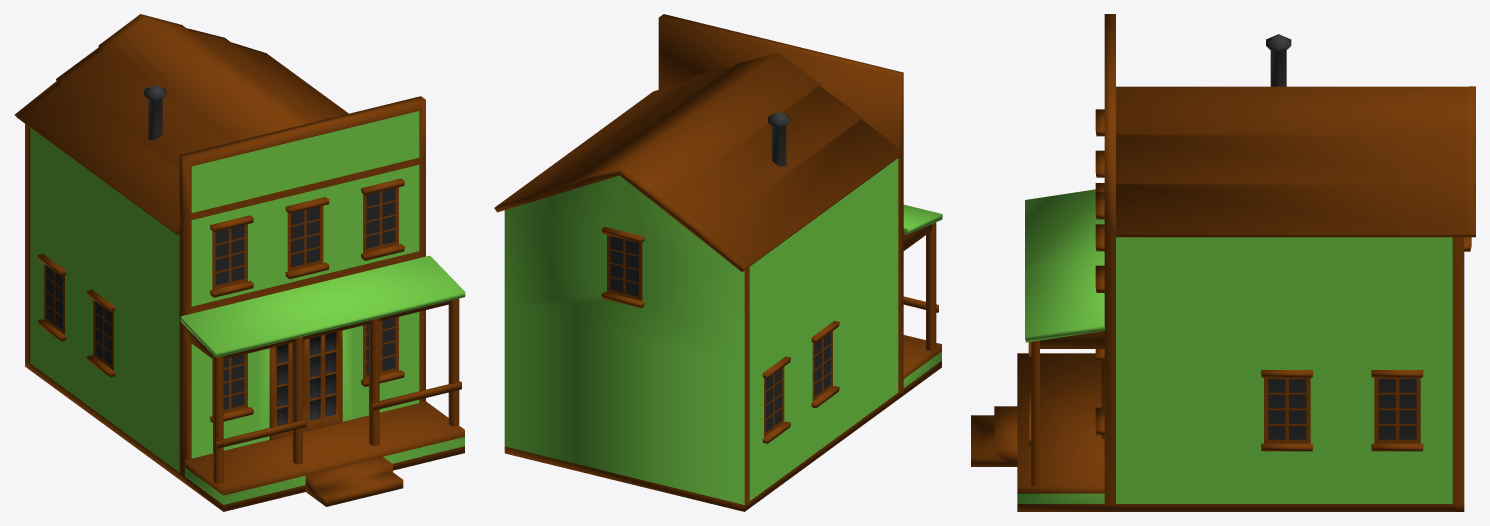
File: Western_BankGreen.fbx
3 views of the same model, side by side, from view 1: azimuth 30°, elevation 25°; view 2: azimuth 150°, elevation 25°; view 3: azimuth 270°, elevation 25° (orthographic). The views are drawn at different scales.
Visible parts, largest first — view 1: WesternBuilding_Bank_Green; view 2: WesternBuilding_Bank_Green; view 3: WesternBuilding_Bank_Green.
Boxes of the visible parts, x1,y1,x2,y2 form: WesternBuilding_Bank_Green: [14, 14, 465, 511]; WesternBuilding_Bank_Green: [494, 14, 942, 511]; WesternBuilding_Bank_Green: [971, 14, 1475, 511].
Bounding box in the file's own units: 565 × 707 × 870.
1 material, 1 textured.
